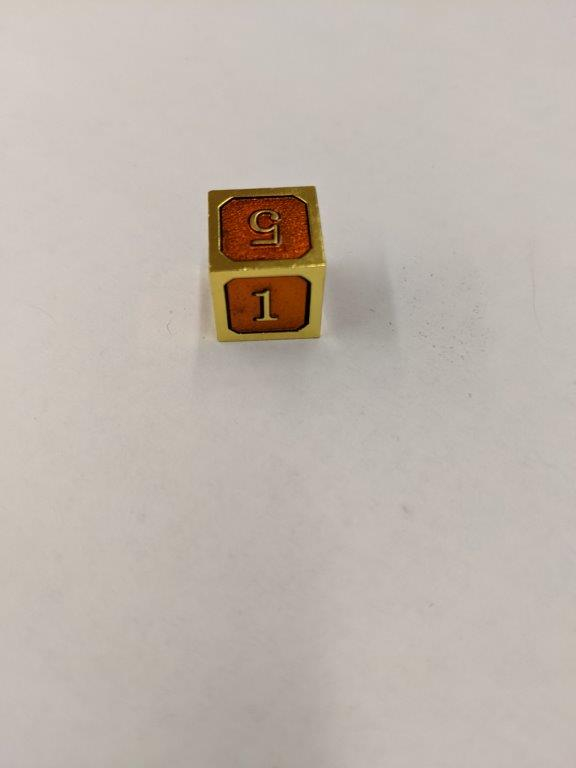d6-5: (210, 185, 325, 341)
